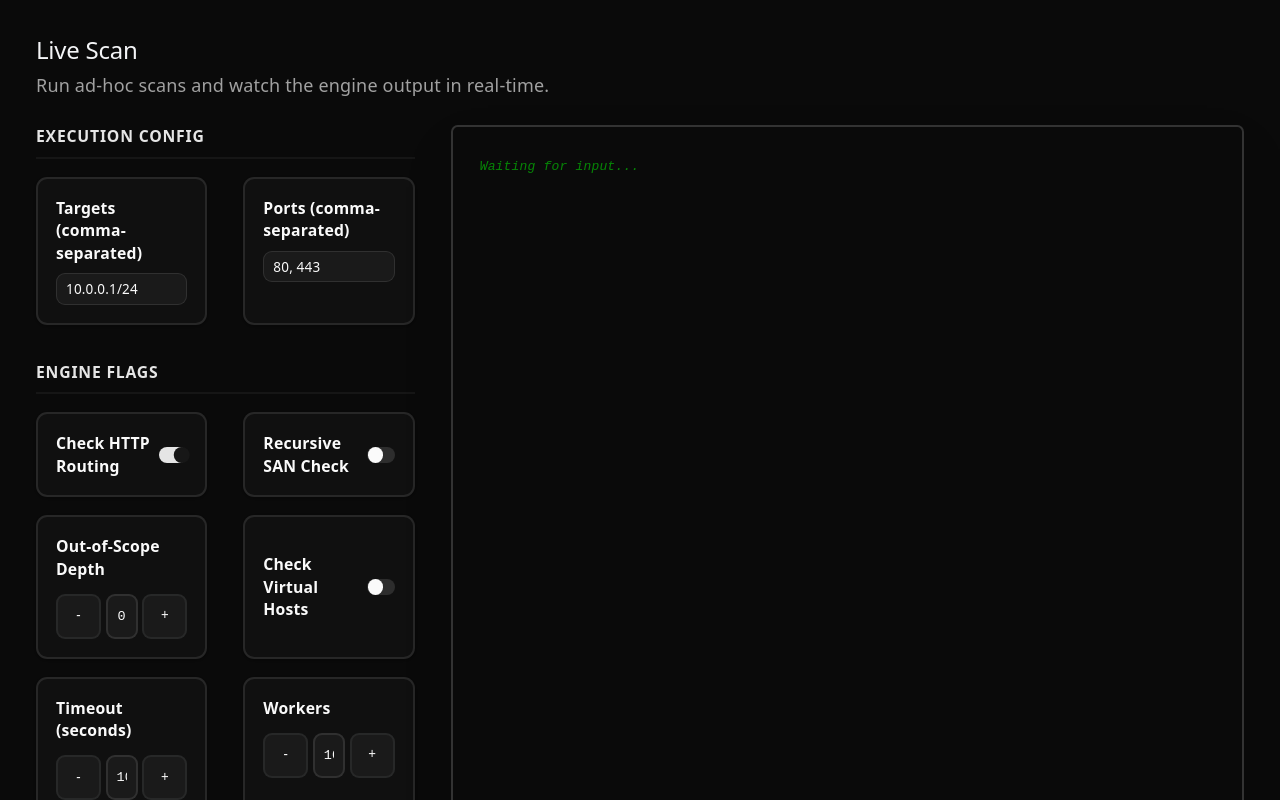
Scenario: LiveScanPage Wait-Before-Leaving & Input Validation › closes confirmation dialog on launch failure, does not start terminal stream, and shows bottom error banner on ScanConfigForm
The image size is (1280, 800).
Replace the text in the field with placeholder "e.g. 192.168.1.0/24, 10.0.0.1-10.0.0.50, github.com" with "999.999.999.999" at point(122, 289), box [56,273,187,305]
(page scrolled)
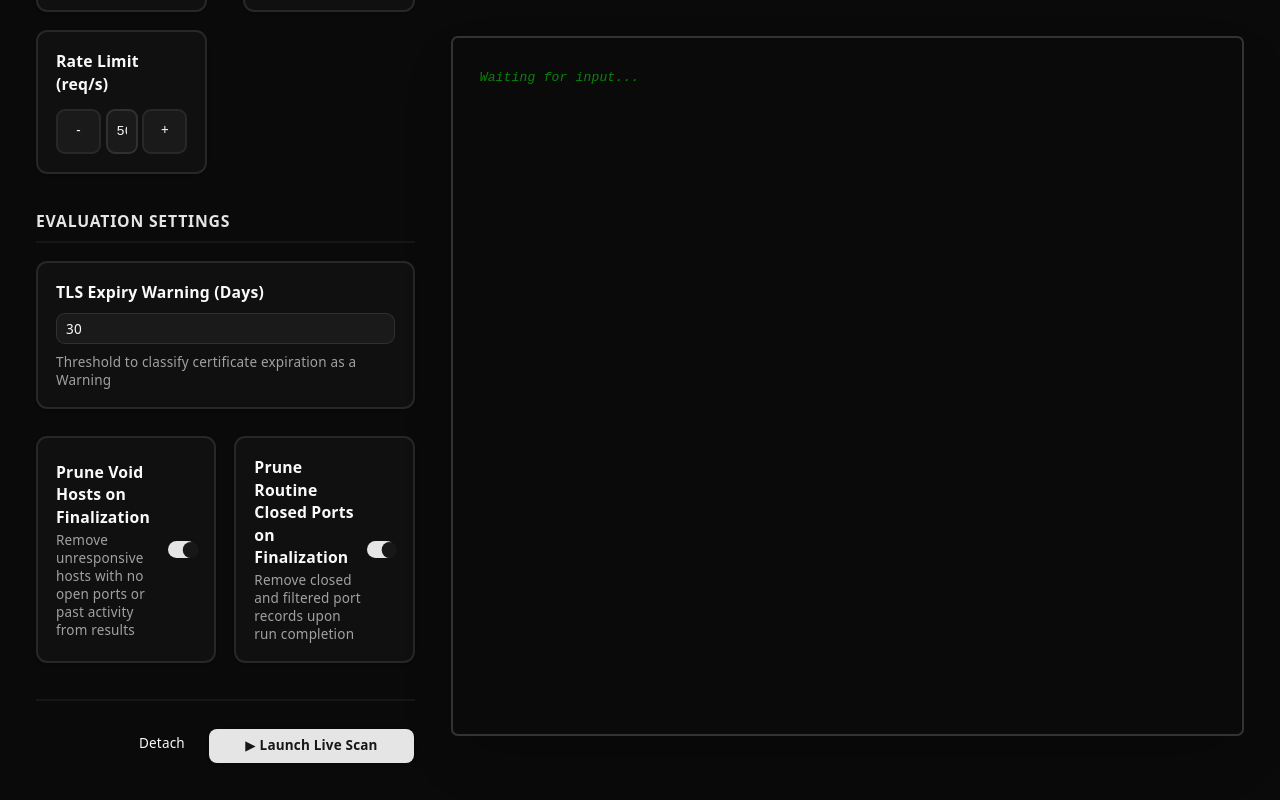
Click the button "▶ Launch Live Scan" at point(312, 746), box [208,728,415,764]
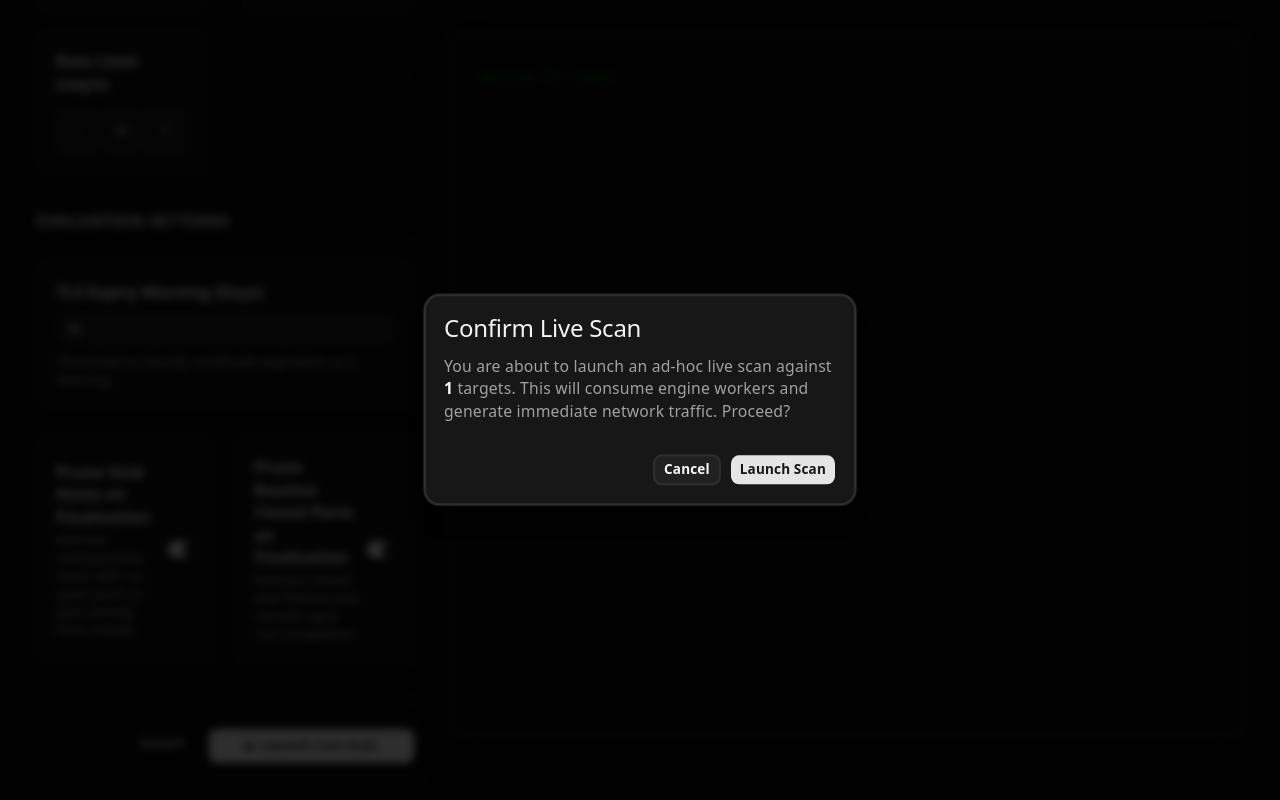
Click the button "Launch Scan" at point(783, 470), box [730,454,836,486]
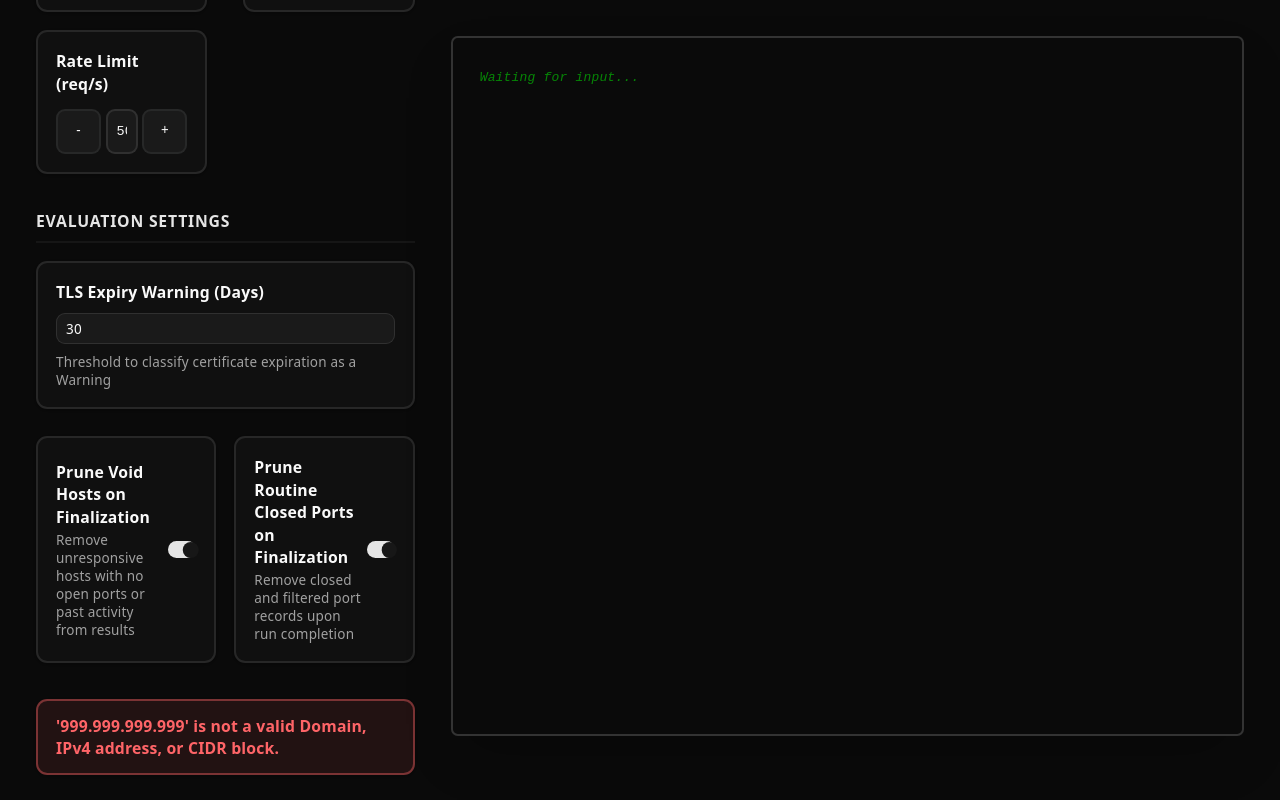
Expected: the text "Waiting for input..." is shown, [480,70,639,85]
Result: the message with test id "form-error-banner" reads "'999.999.999.999' is not a valid Domain, IPv4 address, or CIDR block." at [56,715,367,759]
Result: the heading "Confirm Live Scan" is gone
